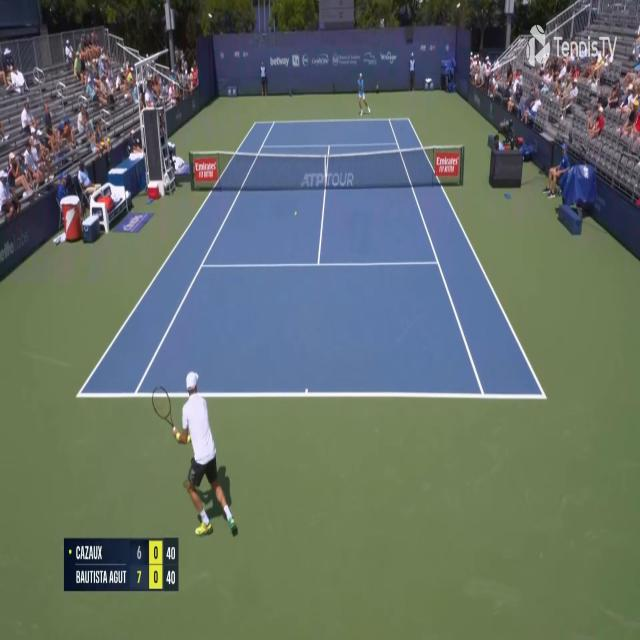tennis-player: (152, 367, 240, 543), (356, 70, 372, 116)
